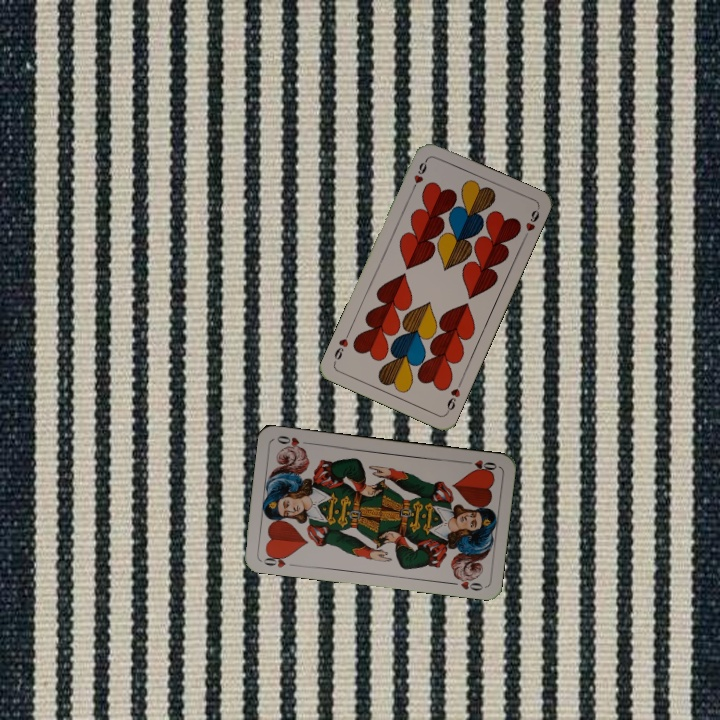H9: (442, 377, 465, 416), (408, 155, 430, 194)
HO: (459, 456, 499, 475), (258, 549, 291, 570)
